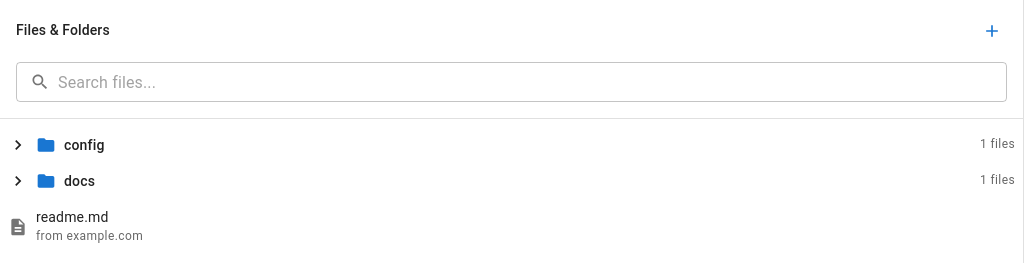
FileExplorer › should auto-expand folders in search results
# Search for a file inside a folder
Step 1. Type "config.json" into the field with placeholder "Search files..." → (532, 82), box 58,62 -> 1007,102
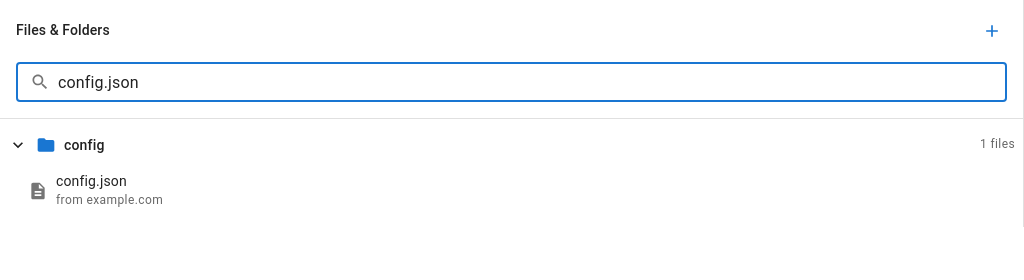
Result: the text "config.json" is shown at 56,173 -> 127,189
